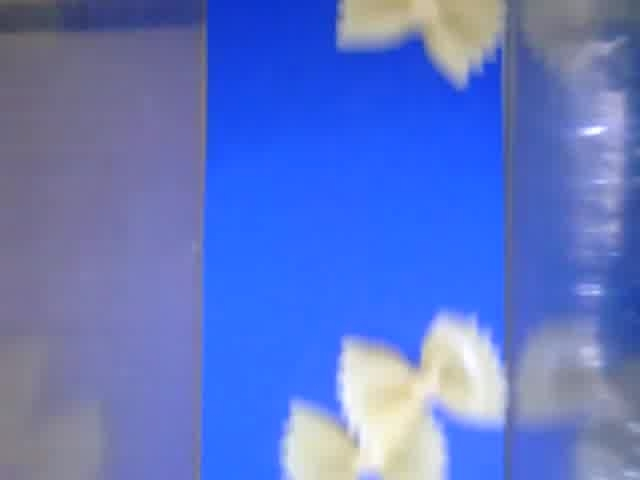farfalle: (337, 309, 519, 450), (281, 399, 449, 480)
